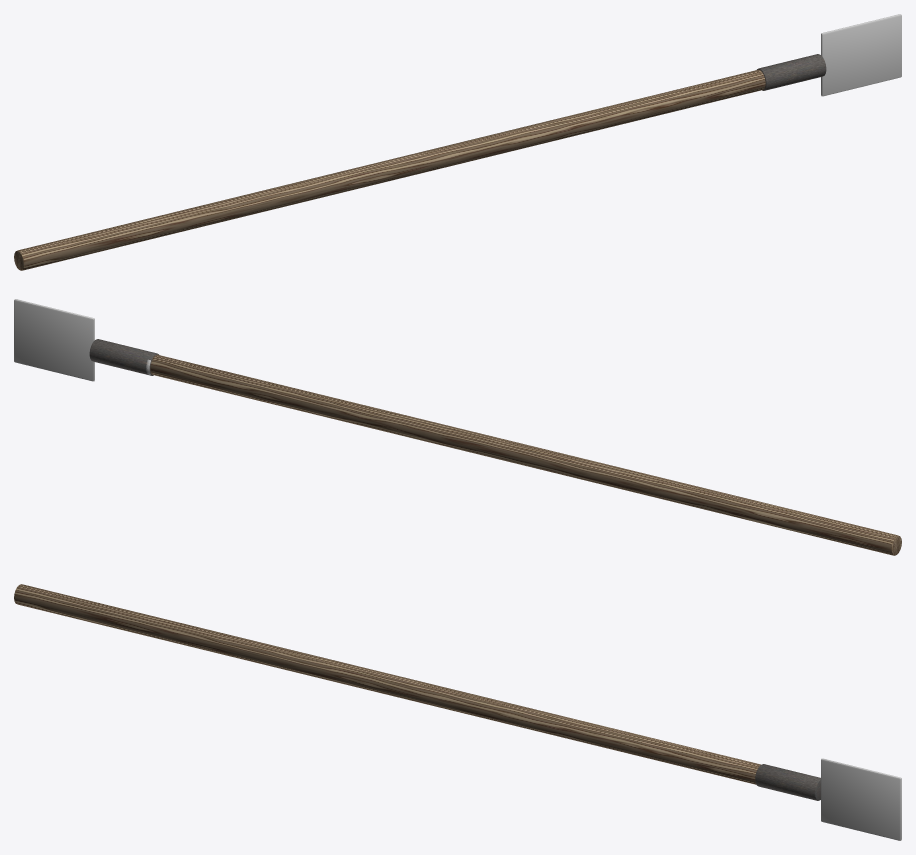
Rendered from flenser.glb.
3 renders of one model, top to bottom at view 1: azimuth 30°, elevation 25°; view 2: azimuth 150°, elevation 25°; view 3: azimuth 330°, elevation 25°, orthographic.
Visible parts, largest first — view 1: pole, spade, socket; view 2: pole, spade, socket; view 3: pole, spade, socket.
Part boxes in pixels (x1,y1,x2,y2): pole: [14, 69, 765, 270]; spade: [821, 14, 901, 96]; socket: [757, 54, 826, 90]; pole: [150, 354, 901, 555]; spade: [14, 299, 94, 381]; socket: [89, 339, 158, 375]; pole: [14, 584, 760, 784]; spade: [821, 758, 901, 840]; socket: [755, 764, 820, 800].
Bounding box in the file's own units: 1.75 × 0.12 × 0.04.
1 material, 1 textured.
